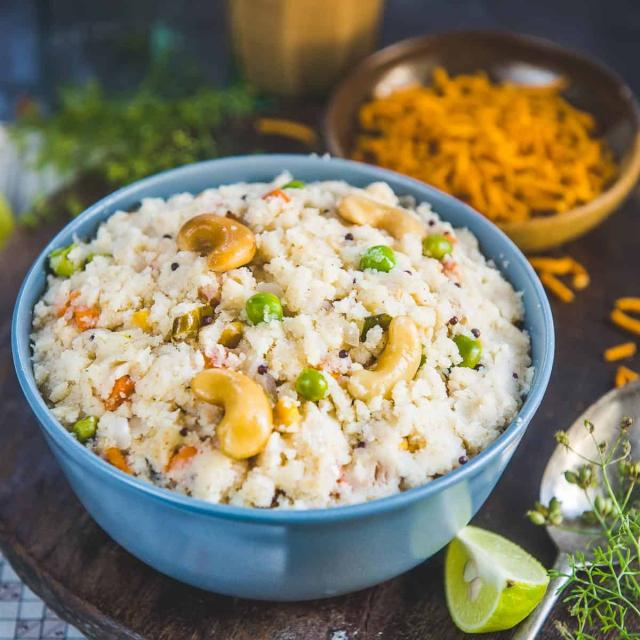UPMA: (33, 171, 532, 504)
